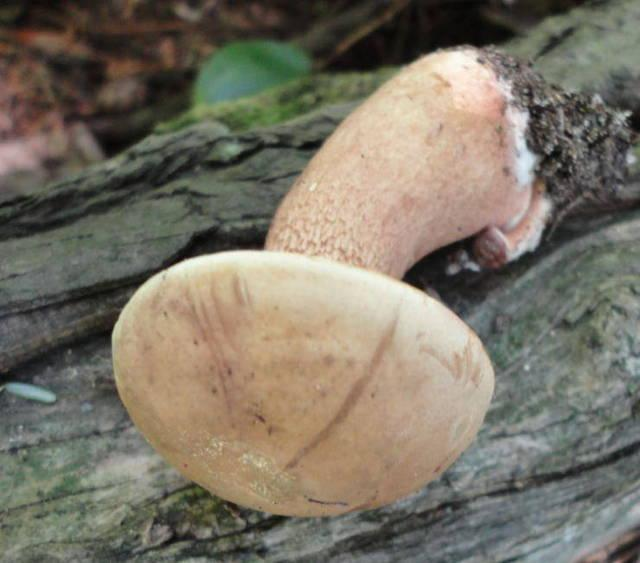poisonous_mushroom: (109, 247, 496, 519)
